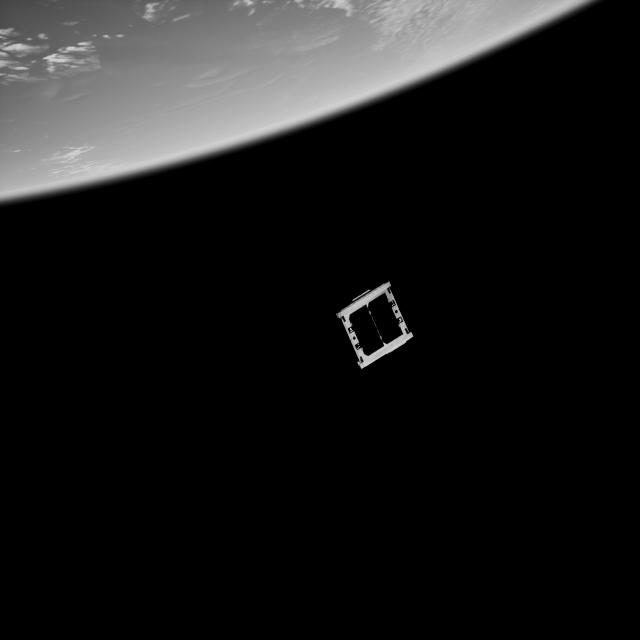satellite: (337, 280, 417, 374)
